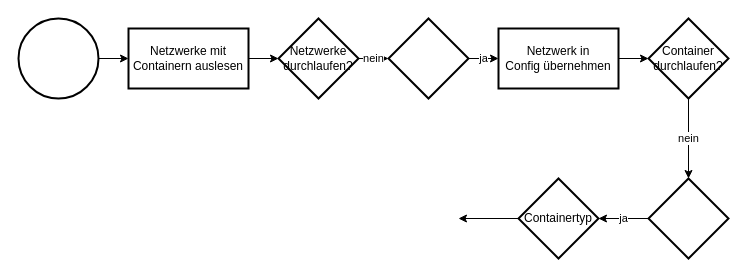
Image size: 746x276. Some labels were removed from this diagram. Here are the shapes that lost their labels. From the top down, the centre of each, then its label:
At point 428,58: "Netzwerk sichern?".
At point 688,218: "Container sichern?".
